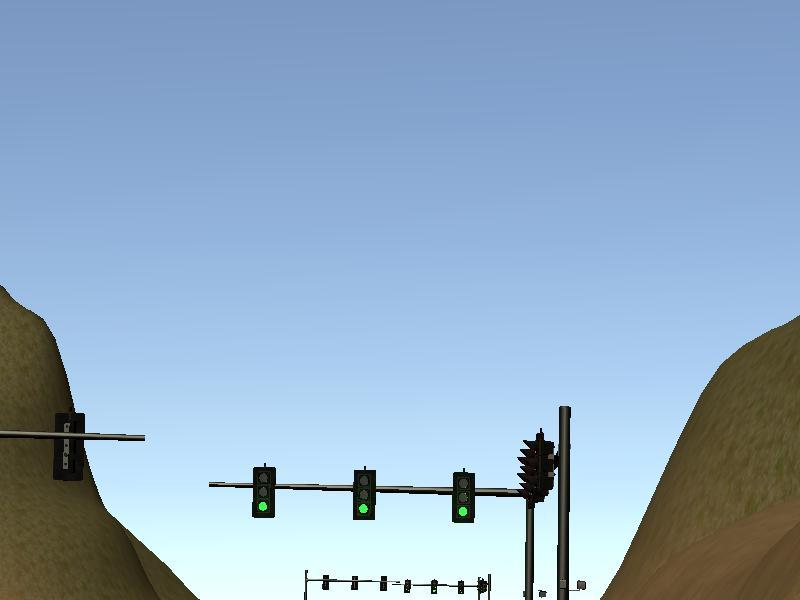Green: (452, 473, 476, 522), (252, 466, 274, 519), (353, 471, 376, 520)
